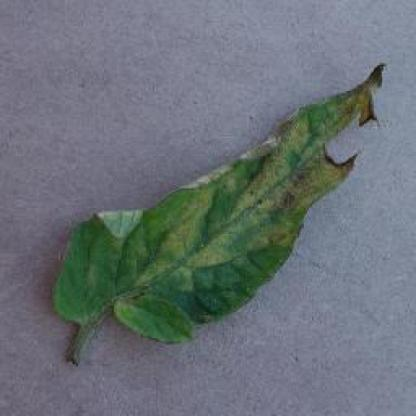Tomato_Leaf_Mold: (55, 63, 384, 332)
